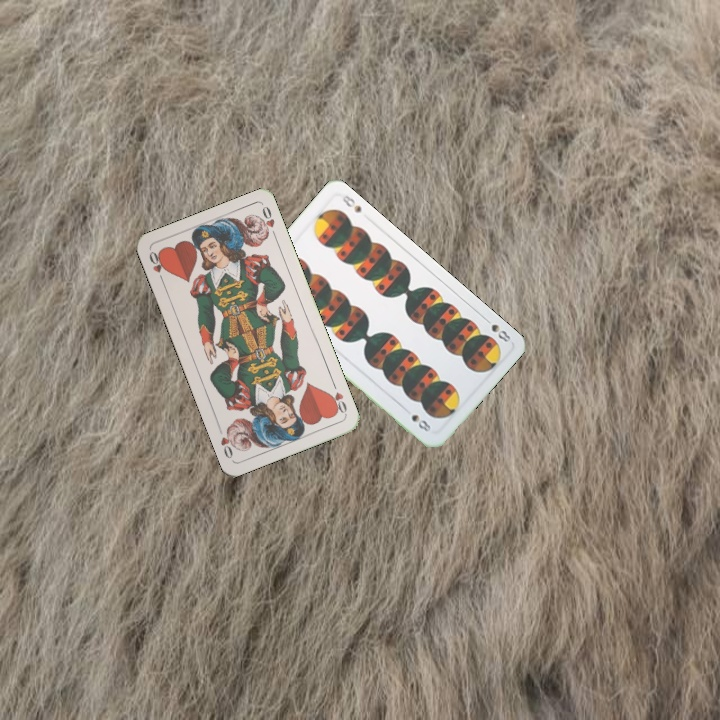HO: (325, 378, 349, 417), (145, 247, 168, 286)
S8: (479, 313, 513, 345)
